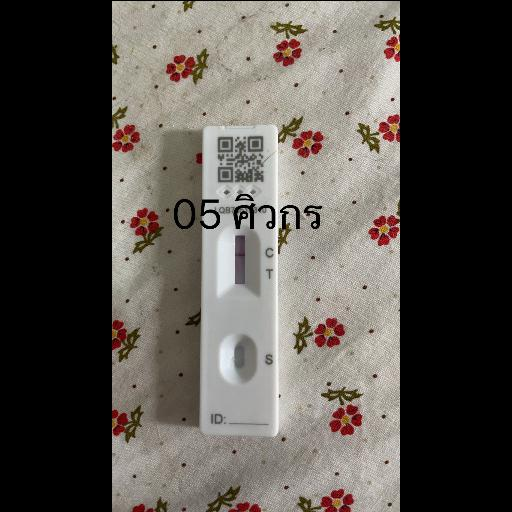Neg: (202, 126, 276, 436)
